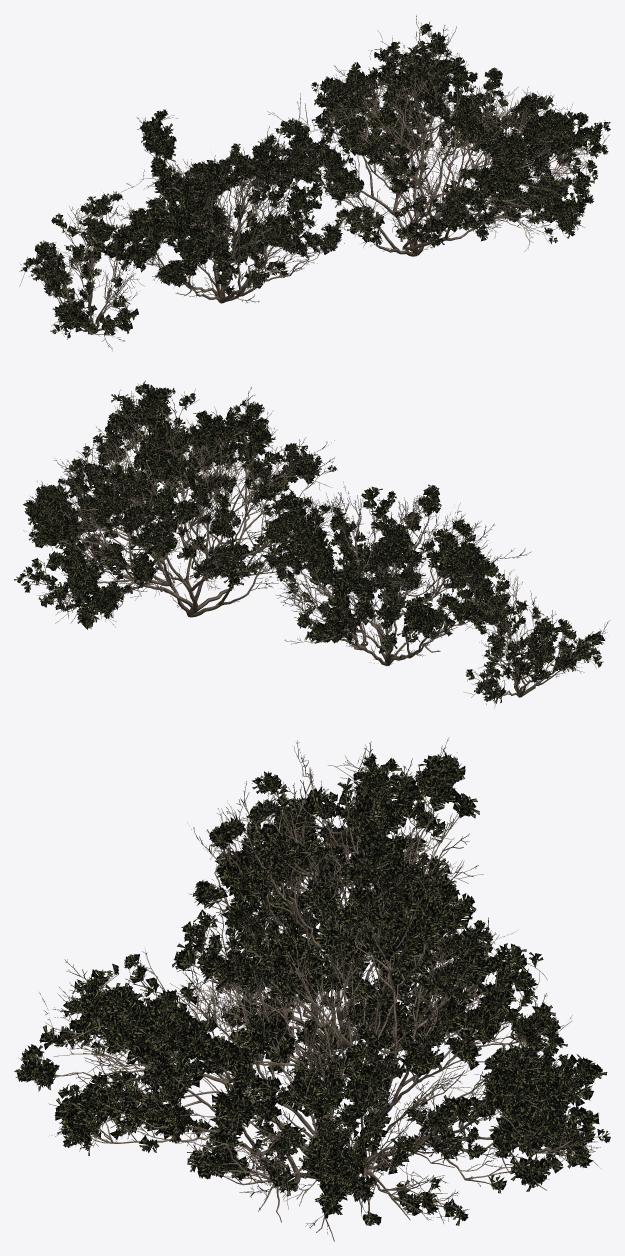
The model's file is searsia-burchellii.glb.
3 views of the same model, one above another, from view 1: azimuth 30°, elevation 25°; view 2: azimuth 150°, elevation 25°; view 3: azimuth 270°, elevation 25° (orthographic). The views are drawn at different scales.
Visible parts, largest first — view 1: searsia_burchellii; view 2: searsia_burchellii; view 3: searsia_burchellii.
Boxes of the visible parts, x1,y1,x2,y2 form: searsia_burchellii: (19,14,610,351); searsia_burchellii: (14,380,610,708); searsia_burchellii: (14,738,610,1241).
Bounding box in the file's own units: 8.35 × 3.25 × 5.05.
2 materials, 2 textured.
